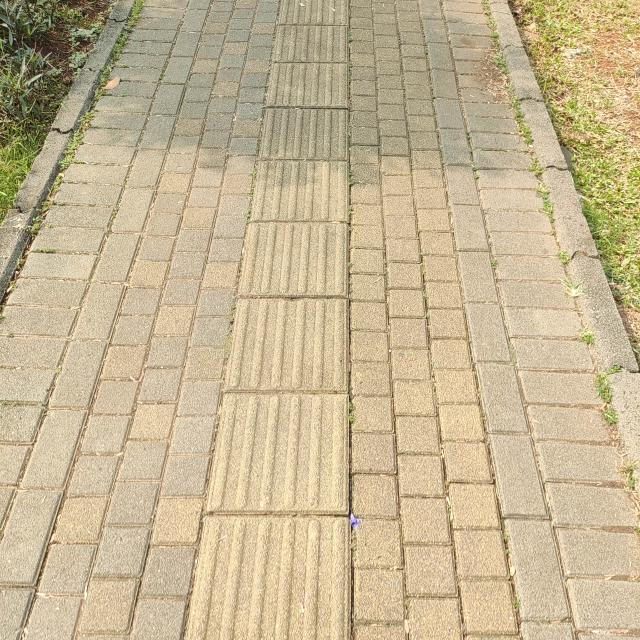lurus: (222, 0, 354, 640)
